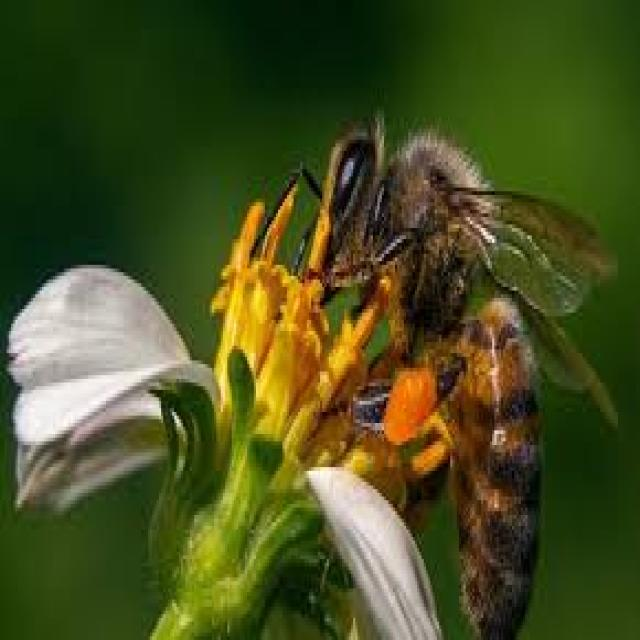Bees: (270, 112, 617, 640)
